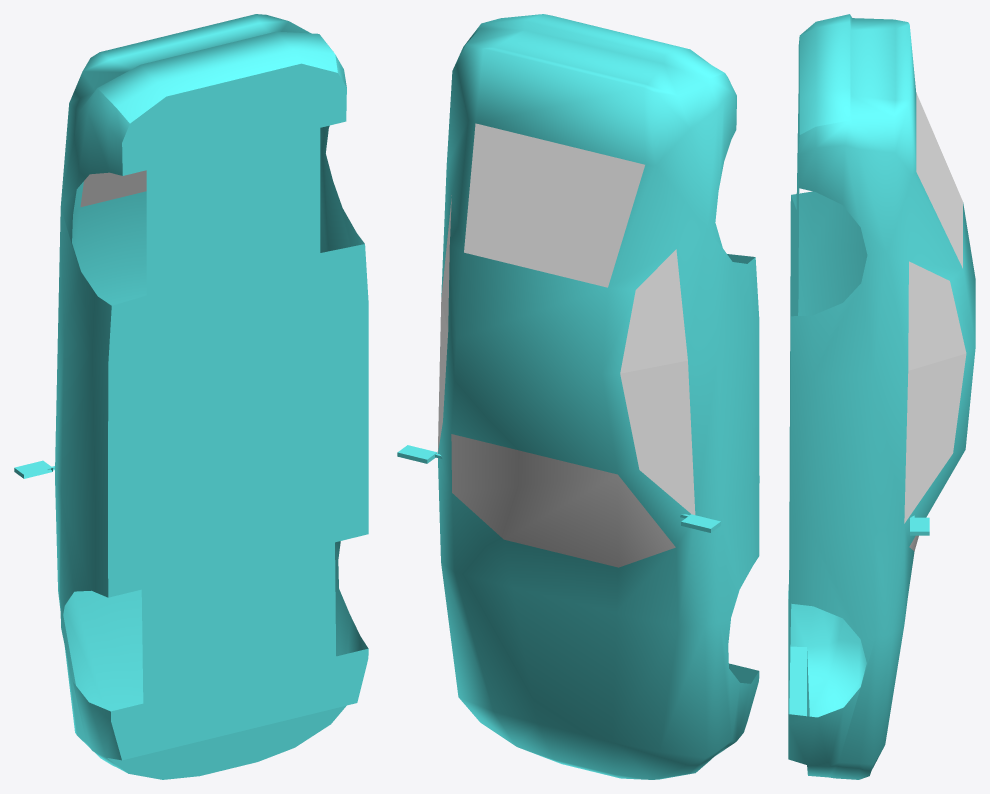
Rendered from Car_Body.fbx.
The picture shows the model from 3 angles, left to right: view 1: azimuth 30°, elevation 25°; view 2: azimuth 150°, elevation 25°; view 3: azimuth 270°, elevation 25°; orthographic projection. The views are drawn at different scales.
Visible parts, largest first — view 1: Car_Body; view 2: Car_Body; view 3: Car_Body.
Part boxes in pixels (x1,y1,x2,y2): Car_Body: (14,14,368,779); Car_Body: (397,14,759,779); Car_Body: (788,14,975,779).
Size of the model in its own units: 176 by 393 by 95.38.
